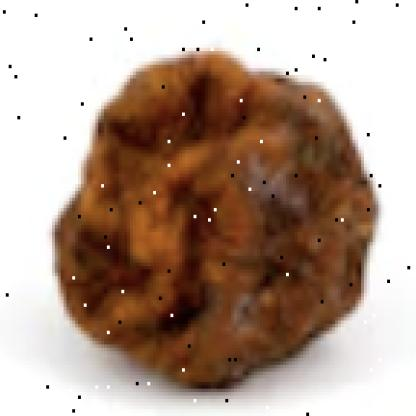rotten: (55, 48, 377, 389)
